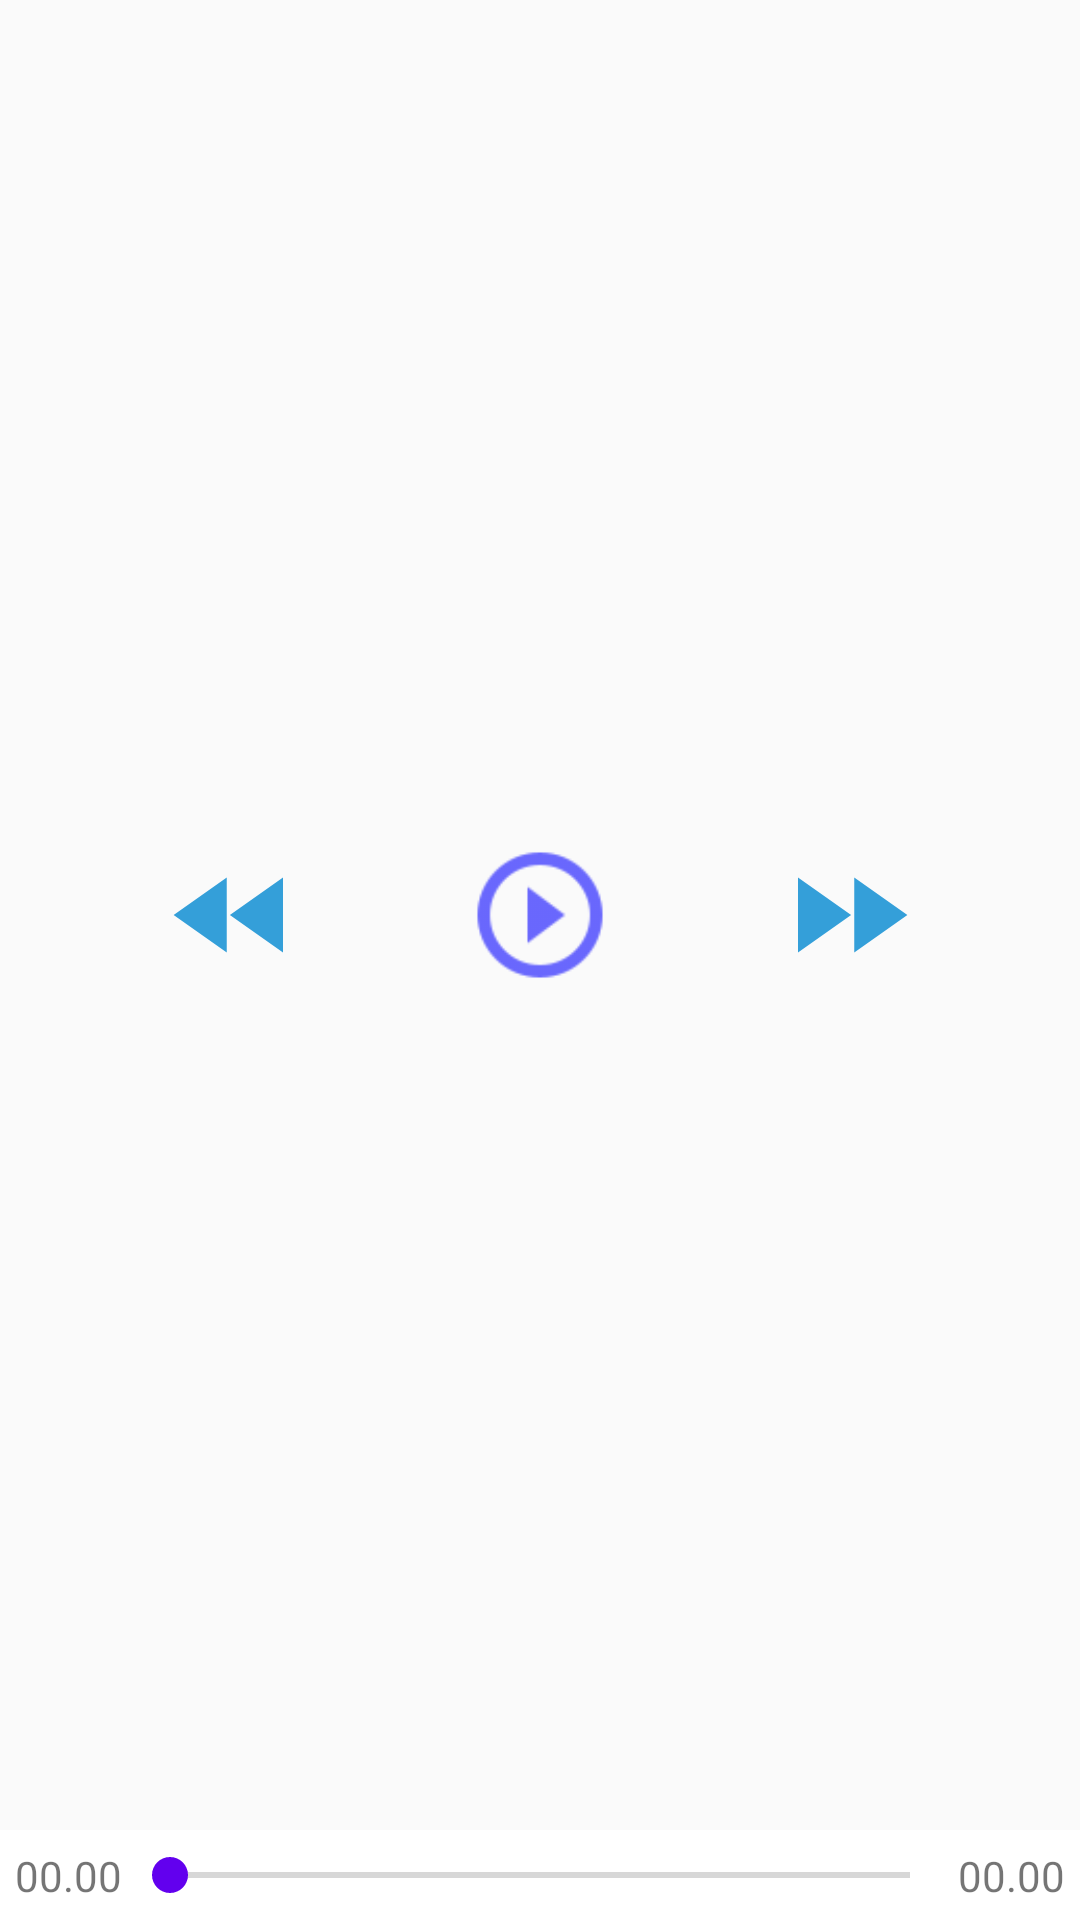

Where to tap for icons on this 1080 × 1920 app screen, as (x=x, y=y):
backward: (x=228, y=915)
forward: (x=852, y=915)
play: (x=540, y=915)
